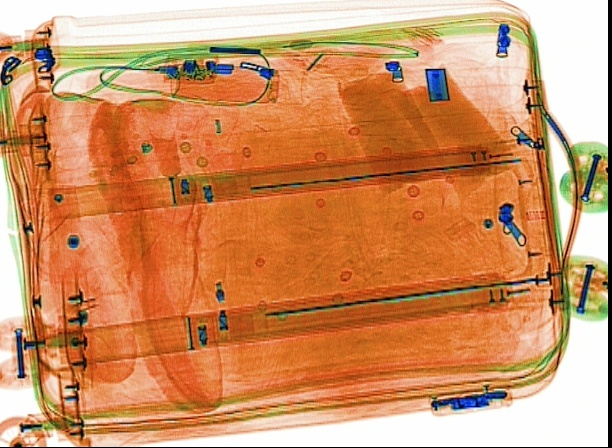pressure: (168, 60, 307, 109)
